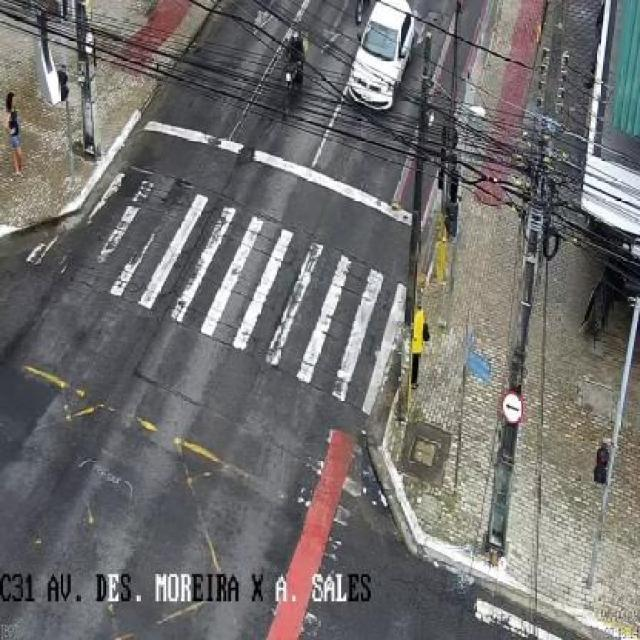Car: (337, 0, 422, 113)
Cycle: (277, 30, 305, 116)
